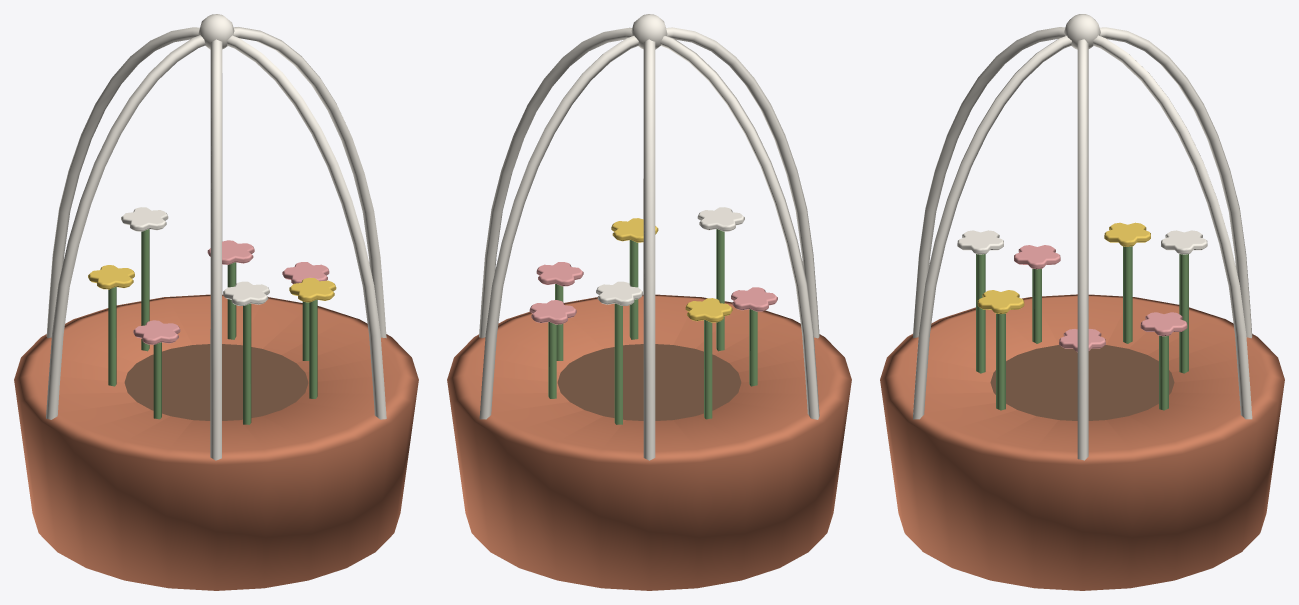
The model's file is petroom_butterfly_house.glb.
3 renders of one model, left to right at view 1: azimuth 30°, elevation 25°; view 2: azimuth 150°, elevation 25°; view 3: azimuth 270°, elevation 25°, orthographic.
Parts seen in each view (by area): view 1: petroom_butterfly_house_mesh; view 2: petroom_butterfly_house_mesh; view 3: petroom_butterfly_house_mesh.
Part boxes in pixels (<box>): petroom_butterfly_house_mesh: <box>14,14,418,590</box>; petroom_butterfly_house_mesh: <box>447,14,851,590</box>; petroom_butterfly_house_mesh: <box>880,14,1284,590</box>.
Bounding box in the file's own units: 0.66 × 0.895 × 0.66.
